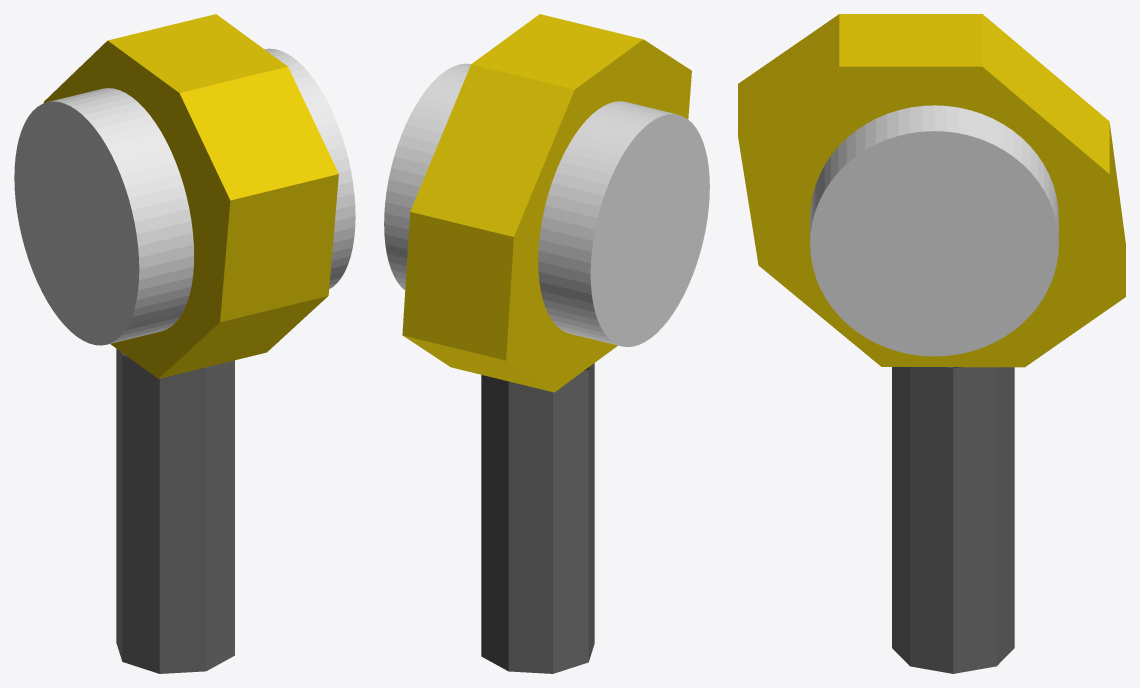
The model's file is Trigger.fbx.
3 views of the same model, side by side, from view 1: azimuth 30°, elevation 25°; view 2: azimuth 150°, elevation 25°; view 3: azimuth 270°, elevation 25° (orthographic). The views are drawn at different scales.
Visible parts, largest first — view 1: 円, 円柱; view 2: 円, 円柱; view 3: 円, 円柱.
Part boxes in pixels (x1,y1,x2,y2): 円: (43,14,338,673); 円柱: (14,48,355,345); 円: (402,14,691,673); 円柱: (384,63,709,346); 円: (738,14,1125,673); 円柱: (810,105,1058,356).
Size of the model in its own units: 69.31 by 187 by 108.
